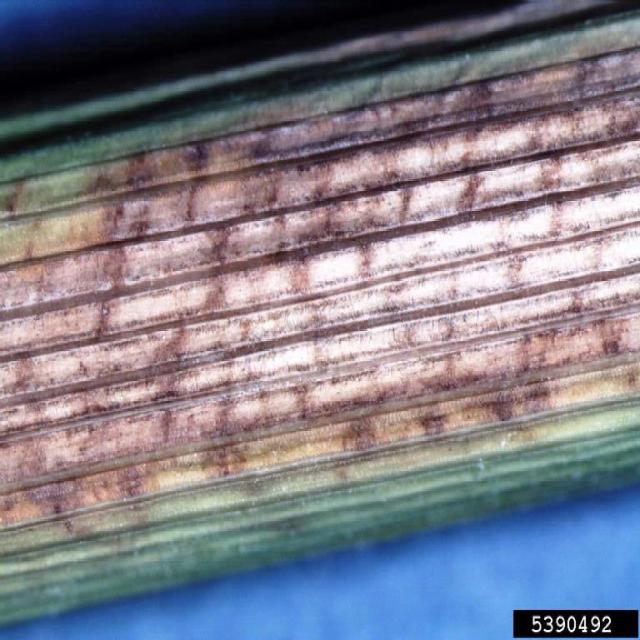Bacterial leaf blight: (2, 1, 637, 592)
